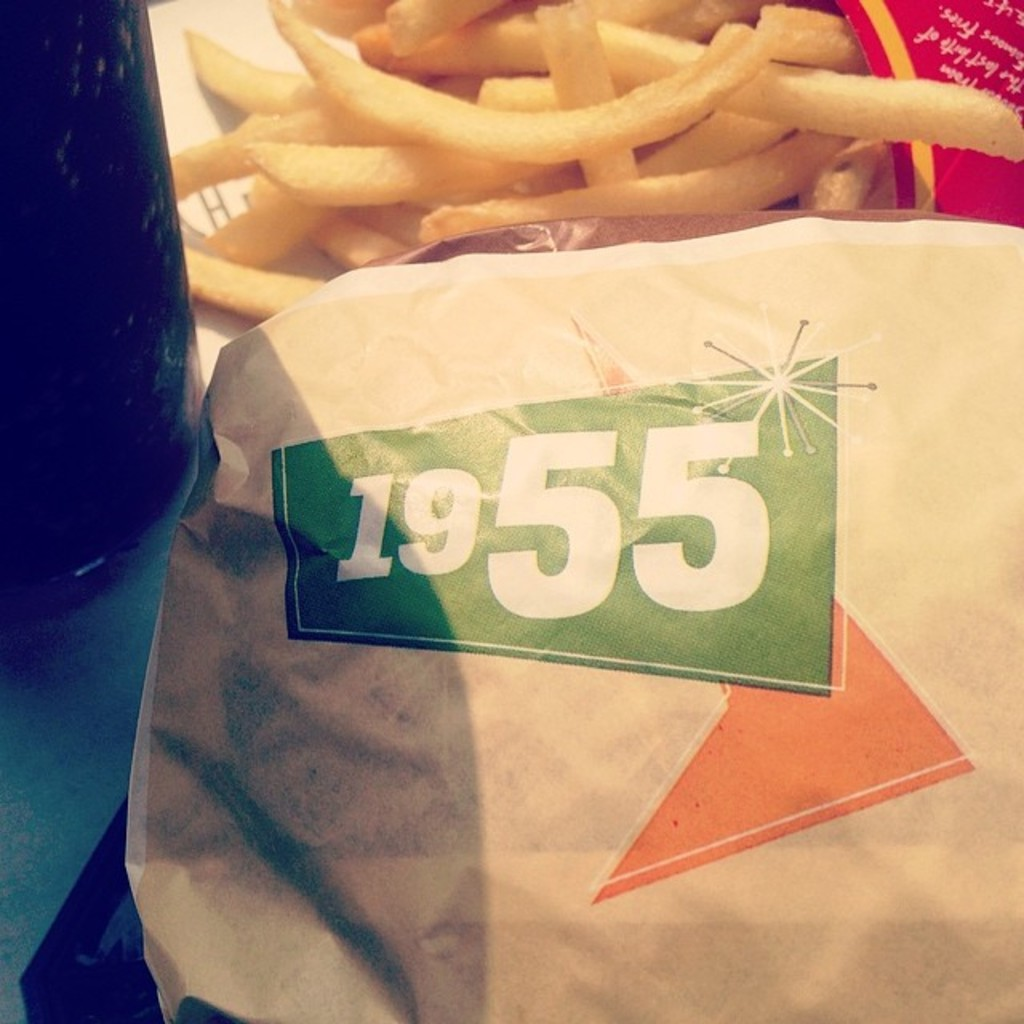French fries: (126, 0, 950, 251)
